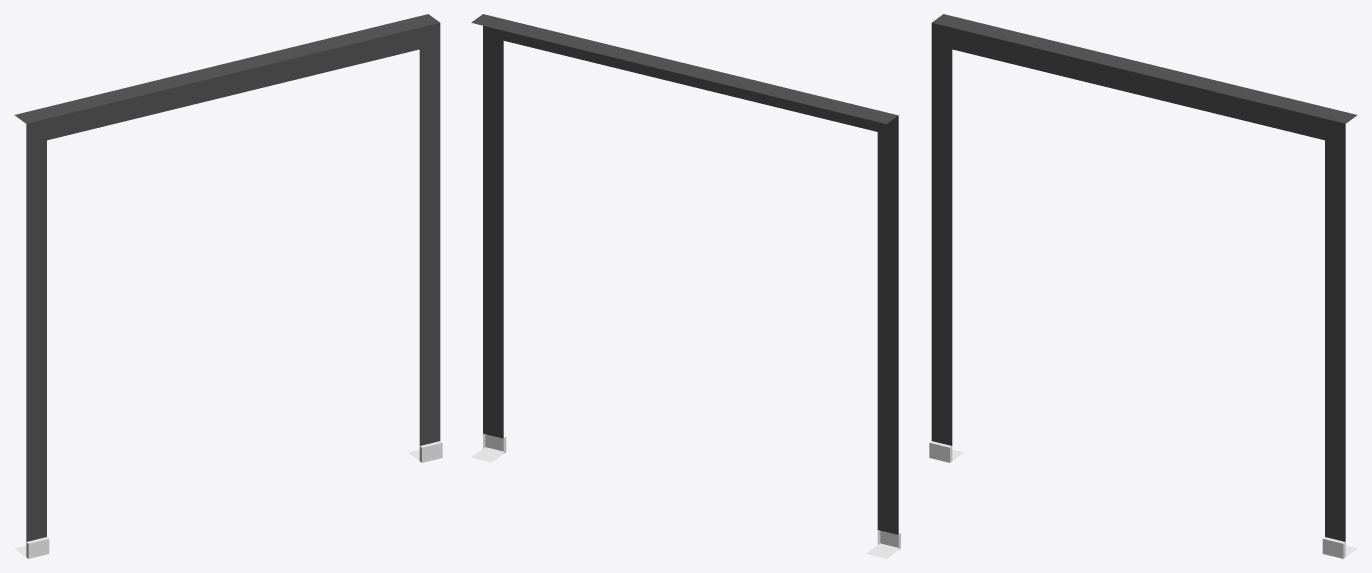
File: Int-V2GarageFrameGray.fbx
The picture shows the model from 3 angles, left to right: view 1: azimuth 30°, elevation 25°; view 2: azimuth 150°, elevation 25°; view 3: azimuth 330°, elevation 25°; orthographic projection.
Visible parts, largest first — view 1: Int-V2GarageFrameGray; view 2: Int-V2GarageFrameGray; view 3: Int-V2GarageFrameGray.
Boxes of the visible parts, left/top/right/bottom form: Int-V2GarageFrameGray: left=14, top=14, right=442, bottom=558; Int-V2GarageFrameGray: left=471, top=14, right=900, bottom=558; Int-V2GarageFrameGray: left=929, top=14, right=1357, bottom=558.
Size of the model in its own units: 200 by 200 by 12.
